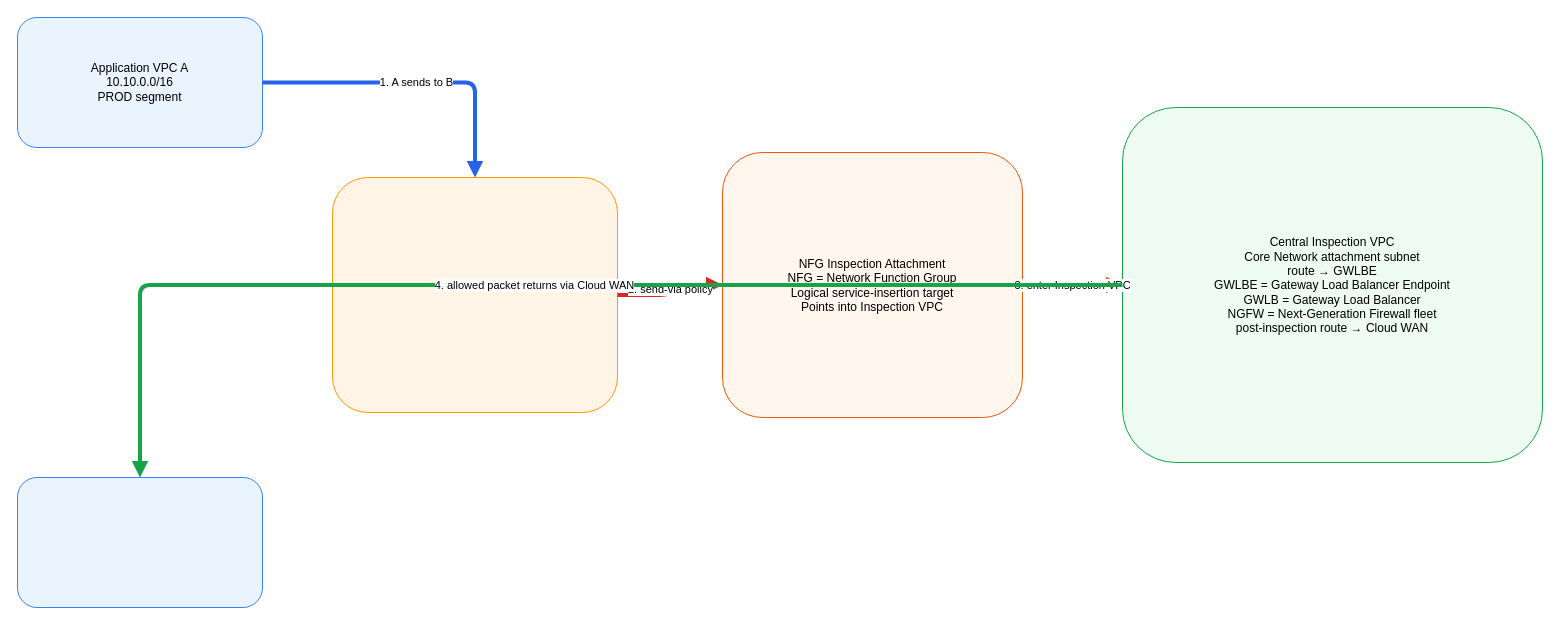
Some shapes in this 1560 by 625 pixel diagram are drawn without their labels. The box of each missing label's shape, as (x1, y1, x2, y2) in pixels:
Application VPC B 10.20.0.0/16 DEV segment: (16, 476, 262, 608)
Cloud WAN CNE CNE = Core Network Edge Managed regional router PROD → DEV via NFG: (332, 176, 618, 412)
